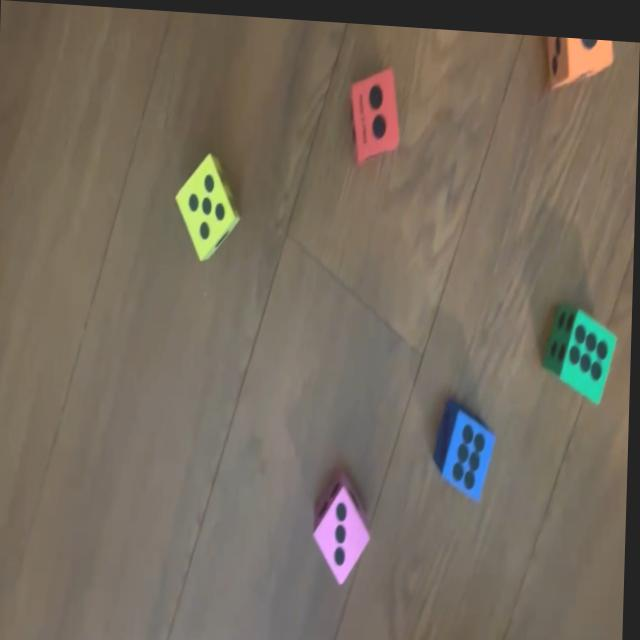cube: (542, 290, 621, 400), (432, 395, 498, 497), (347, 56, 400, 164)
